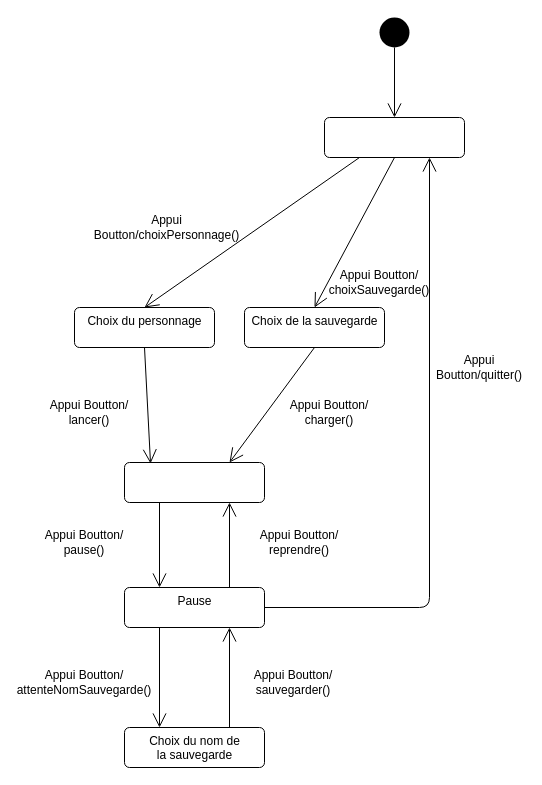
This 542x785 diagram has some shape labels left out. Here are the shapes that lost their labels. From the top down, the centre of each, then its label:
At pixel 394 137: "Menu".
At pixel 194 482: "Simulation en cours".
